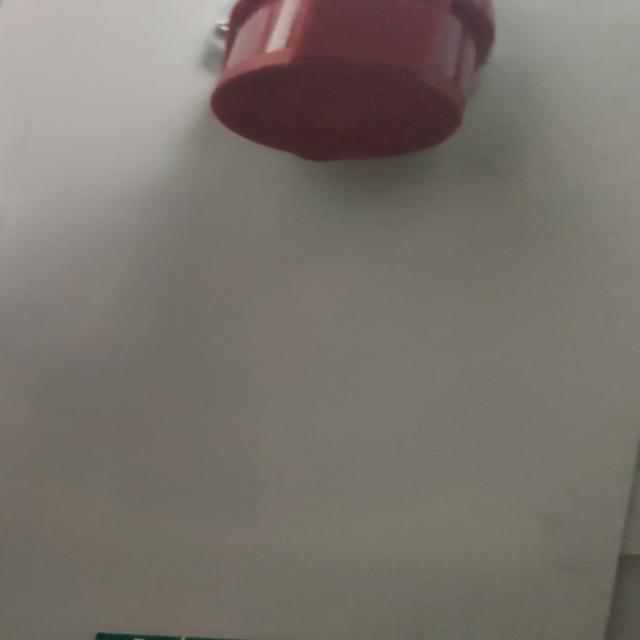400v socket down: (208, 0, 497, 165)
